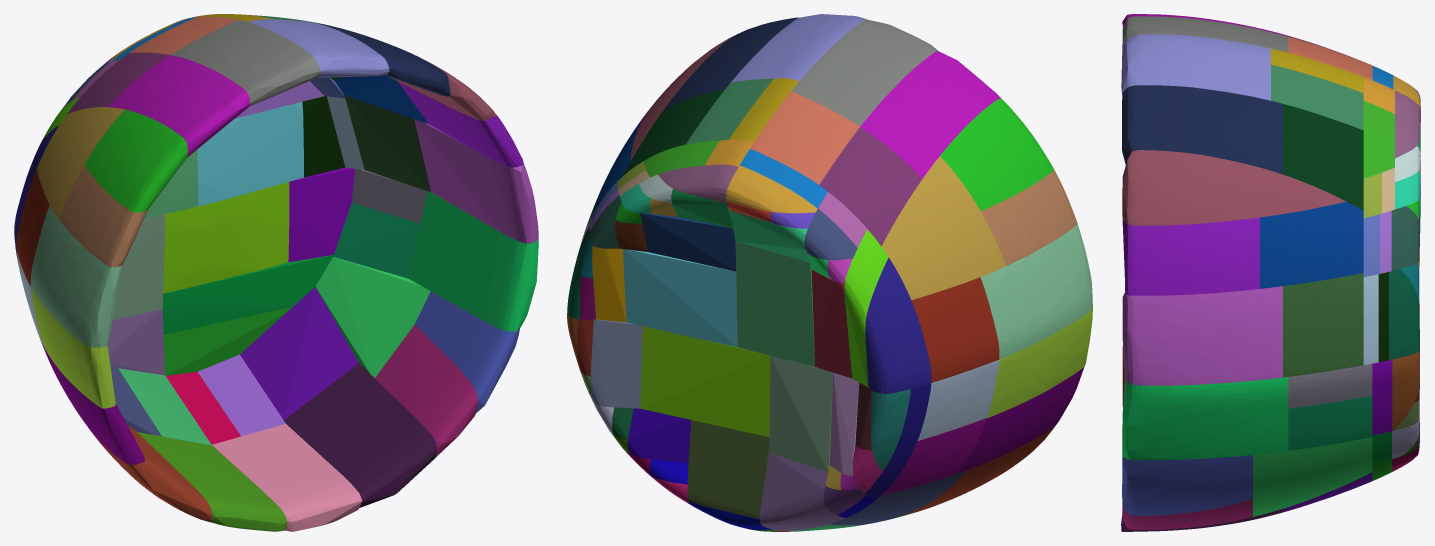
The model's file is coacd_collision.obj.
The picture shows the model from 3 angles, left to right: view 1: azimuth 30°, elevation 25°; view 2: azimuth 150°, elevation 25°; view 3: azimuth 270°, elevation 25°; orthographic projection. The views are drawn at different scales.
Visible parts, largest first — view 1: geometry_26, geometry_23, geometry_4, geometry_24, geometry_27, geometry_2, geometry_38, geometry_36, geometry_39, geometry_22, geometry_33, geometry_56 (+33 smaller); view 2: geometry_4, geometry_37, geometry_39, geometry_22, geometry_2, geometry_3, geometry_35, geometry_50, geometry_63, geometry_28, geometry_0, geometry_18 (+48 smaller); view 3: geometry_38, geometry_23, geometry_13, geometry_21, geometry_51, geometry_12, geometry_42, geometry_19, geometry_47, geometry_25, geometry_36, geometry_53 (+27 smaller).
Boxes of the visible parts, left/top/right/bottom form: geometry_26: left=284, top=363, right=436, bottom=507; geometry_23: left=408, top=191, right=538, bottom=331; geometry_4: left=163, top=182, right=289, bottom=293; geometry_24: left=212, top=424, right=362, bottom=531; geometry_27: left=240, top=286, right=358, bottom=419; geometry_2: left=197, top=102, right=303, bottom=206; geometry_38: left=414, top=119, right=538, bottom=243; geometry_36: left=315, top=257, right=430, bottom=377; geometry_39: left=30, top=205, right=123, bottom=347; geometry_22: left=108, top=55, right=249, bottom=157; geometry_33: left=162, top=255, right=333, bottom=334; geometry_56: left=375, top=324, right=477, bottom=457; geometry_4: left=640, top=326, right=770, bottom=437; geometry_37: left=881, top=156, right=1005, bottom=299; geometry_39: left=980, top=223, right=1092, bottom=359; geometry_22: left=860, top=51, right=1000, bottom=178; geometry_2: left=623, top=249, right=737, bottom=347; geometry_3: left=735, top=241, right=814, bottom=366; geometry_35: left=791, top=20, right=937, bottom=126; geometry_50: left=940, top=98, right=1053, bottom=210; geometry_63: left=687, top=420, right=769, bottom=519; geometry_28: left=819, top=127, right=922, bottom=246; geometry_0: left=769, top=356, right=833, bottom=471; geometry_18: left=865, top=257, right=931, bottom=393; geometry_38: left=1122, top=286, right=1282, bottom=385; geometry_23: left=1122, top=377, right=1288, bottom=460; geometry_13: left=1122, top=150, right=1345, bottom=225; geometry_21: left=1122, top=85, right=1282, bottom=174; geometry_51: left=1122, top=217, right=1259, bottom=295; geometry_12: left=1121, top=34, right=1270, bottom=100; geometry_42: left=1260, top=201, right=1363, bottom=288; geometry_19: left=1283, top=273, right=1363, bottom=377; geometry_47: left=1122, top=455, right=1252, bottom=515; geometry_25: left=1283, top=104, right=1363, bottom=210; geometry_36: left=1253, top=437, right=1372, bottom=516; geometry_53: left=1288, top=395, right=1372, bottom=450.
Bounding box in the file's own units: 117 × 117 × 66.12.
